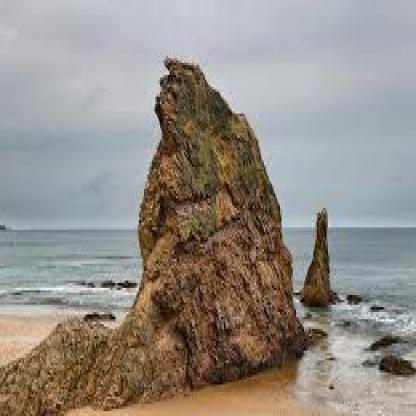Metamorphic_Quartize: (2, 46, 304, 414)
